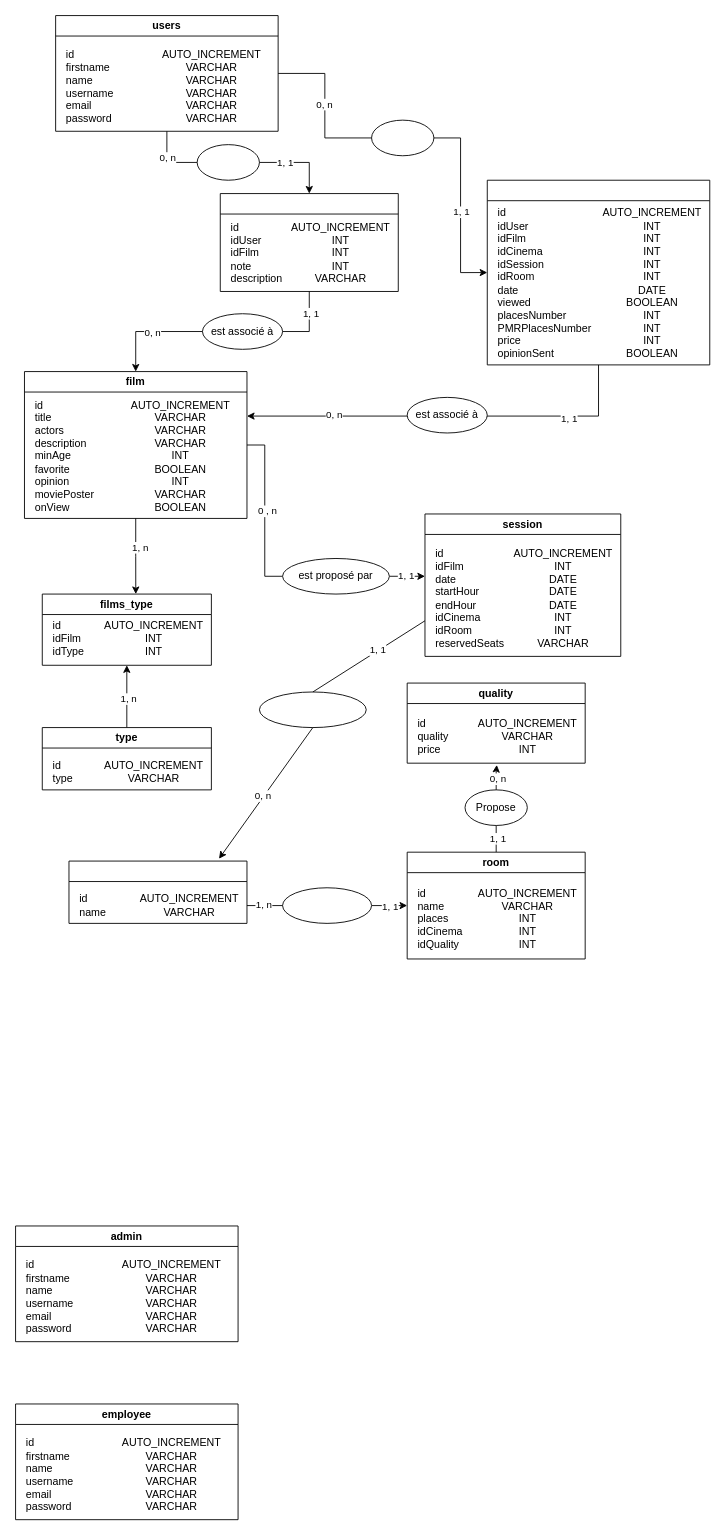
Some shapes in this 725 by 1535 pixel diagram are drawn without their labels. Here are the shapes that lost their labels. From the top down, the box of each, then its label:
(371, 119, 434, 156): effectue
(196, 144, 259, 180): donne
(219, 193, 398, 291): opinion
(486, 179, 710, 365): order
(259, 691, 366, 728): est projetée dans
(68, 860, 247, 923): cinema
(282, 887, 372, 923): Est composé de
